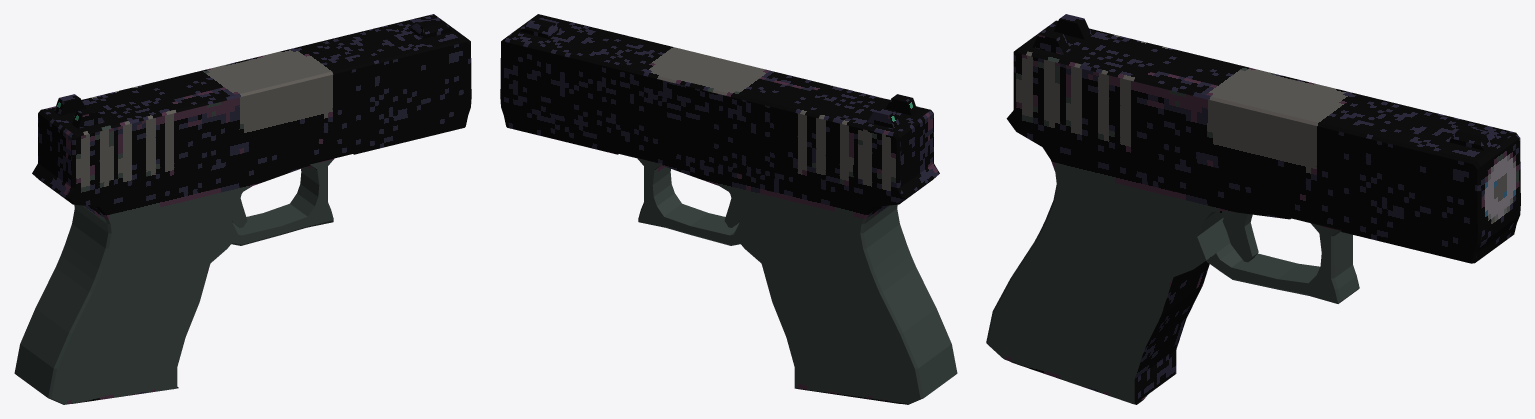
Rendered from Low_poly_glock.glb.
3 renders of one model, left to right at view 1: azimuth 30°, elevation 25°; view 2: azimuth 150°, elevation 25°; view 3: azimuth 330°, elevation 25°, orthographic. The views are drawn at different scales.
Parts seen in each view (by area): view 1: Cube; view 2: Cube; view 3: Cube.
Boxes of the visible parts, x1,y1,x2,y2 form: Cube: (14, 14, 471, 404); Cube: (500, 14, 957, 404); Cube: (986, 14, 1520, 404).
Bounding box in the file's own units: 4.55 × 2.98 × 0.6678.
1 material, 1 textured.
